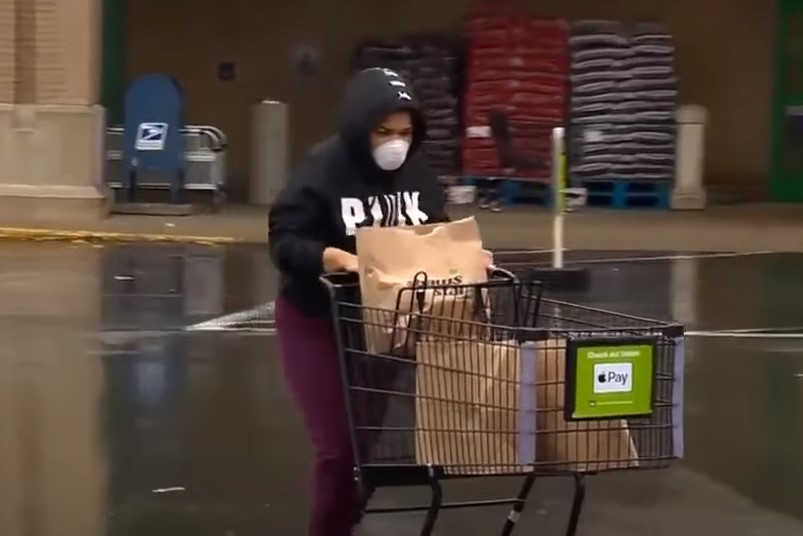face_with_mask: (344, 72, 427, 177)
